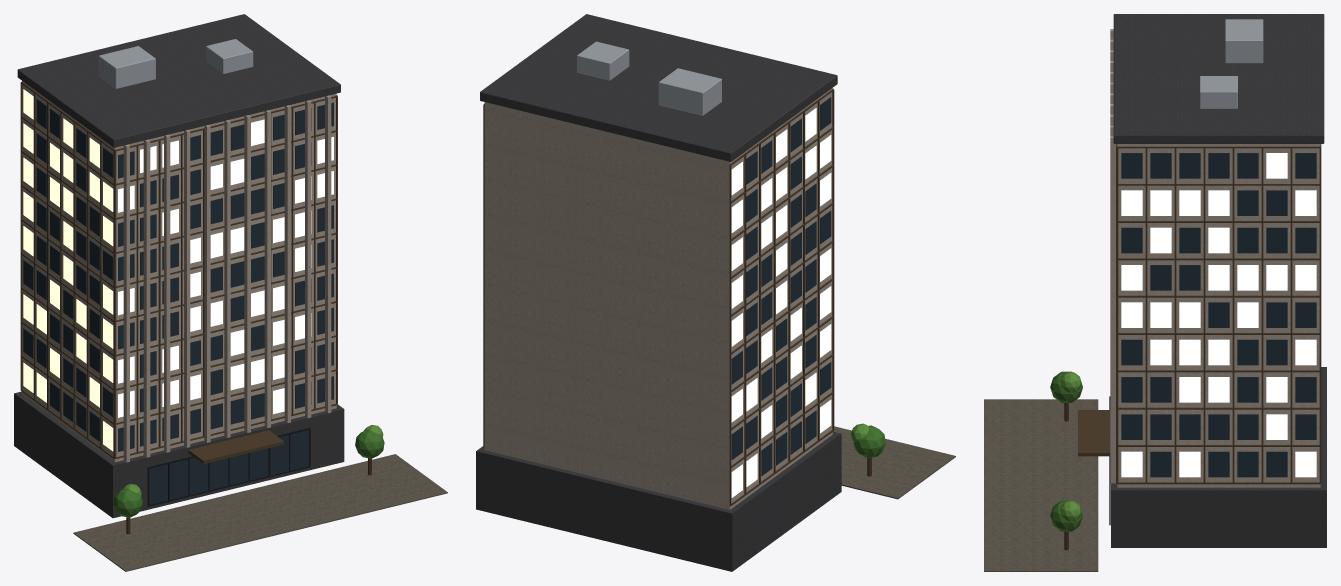
File: OT_Office_A.glb
3 renders of one model, left to right at view 1: azimuth 30°, elevation 25°; view 2: azimuth 150°, elevation 25°; view 3: azimuth 270°, elevation 25°, orthographic. The views are drawn at different scales.
Visible parts, largest first — view 1: OT_Office_A_Limestone, OT_Office_A_Granite, OT_Office_A_Glass__22303a, OT_Office_A_Bronze__4a3a28, OT_Office_A_InteriorWarm__ffdca8, OT_Office_A_Pavement, OT_Office_A_SteelGrey__9aa0a6, OT_Office_A_Leaf__3f6e2c, OT_Office_A_Frame__18191c; view 2: OT_Office_A_Limestone, OT_Office_A_Granite, OT_Office_A_Glass__22303a, OT_Office_A_Bronze__4a3a28, OT_Office_A_InteriorWarm__ffdca8, OT_Office_A_Pavement, OT_Office_A_SteelGrey__9aa0a6, OT_Office_A_Leaf__3f6e2c; view 3: OT_Office_A_Granite, OT_Office_A_Limestone, OT_Office_A_Glass__22303a, OT_Office_A_Pavement, OT_Office_A_InteriorWarm__ffdca8, OT_Office_A_Bronze__4a3a28, OT_Office_A_SteelGrey__9aa0a6, OT_Office_A_Leaf__3f6e2c, OT_Office_A_Leaf2__58893a.
Part boxes in pixels (x1=…): OT_Office_A_Limestone: x1=22, y1=81, x2=336, y2=462; OT_Office_A_Granite: x1=14, y1=14, x2=344, y2=518; OT_Office_A_Glass__22303a: x1=23, y1=99, x2=333, y2=504; OT_Office_A_Bronze__4a3a28: x1=20, y1=82, x2=337, y2=463; OT_Office_A_InteriorWarm__ffdca8: x1=23, y1=89, x2=333, y2=451; OT_Office_A_Pavement: x1=73, y1=454, x2=447, y2=571; OT_Office_A_SteelGrey__9aa0a6: x1=98, y1=39, x2=253, y2=88; OT_Office_A_Leaf__3f6e2c: x1=113, y1=430, x2=384, y2=517; OT_Office_A_Frame__18191c: x1=147, y1=427, x2=310, y2=506; OT_Office_A_Limestone: x1=484, y1=88, x2=832, y2=509; OT_Office_A_Granite: x1=476, y1=14, x2=841, y2=571; OT_Office_A_Glass__22303a: x1=731, y1=97, x2=831, y2=476; OT_Office_A_Bronze__4a3a28: x1=483, y1=88, x2=834, y2=506; OT_Office_A_InteriorWarm__ffdca8: x1=731, y1=108, x2=831, y2=497; OT_Office_A_Pavement: x1=833, y1=426, x2=955, y2=499; OT_Office_A_SteelGrey__9aa0a6: x1=577, y1=41, x2=721, y2=115; OT_Office_A_Leaf__3f6e2c: x1=853, y1=425, x2=885, y2=458; OT_Office_A_Granite: x1=1111, y1=14, x2=1326, y2=547; OT_Office_A_Limestone: x1=1110, y1=29, x2=1320, y2=487; OT_Office_A_Glass__22303a: x1=1121, y1=153, x2=1316, y2=477; OT_Office_A_Pavement: x1=984, y1=399, x2=1098, y2=571; OT_Office_A_InteriorWarm__ffdca8: x1=1110, y1=153, x2=1316, y2=523; OT_Office_A_Bronze__4a3a28: x1=1078, y1=144, x2=1321, y2=484; OT_Office_A_SteelGrey__9aa0a6: x1=1200, y1=19, x2=1263, y2=108; OT_Office_A_Leaf__3f6e2c: x1=1050, y1=371, x2=1082, y2=531; OT_Office_A_Leaf2__58893a: x1=1060, y1=372, x2=1081, y2=521.
Size of the model in its own units: 32 by 37.8 by 27.
Materials: 11 (3 with a texture image).
